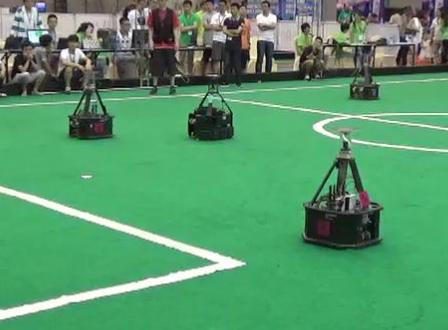robot: (297, 118, 387, 253), (60, 67, 119, 143), (184, 68, 240, 145)
